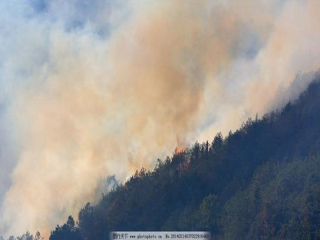fire: (175, 148, 189, 157)
smoke: (148, 50, 210, 150)
